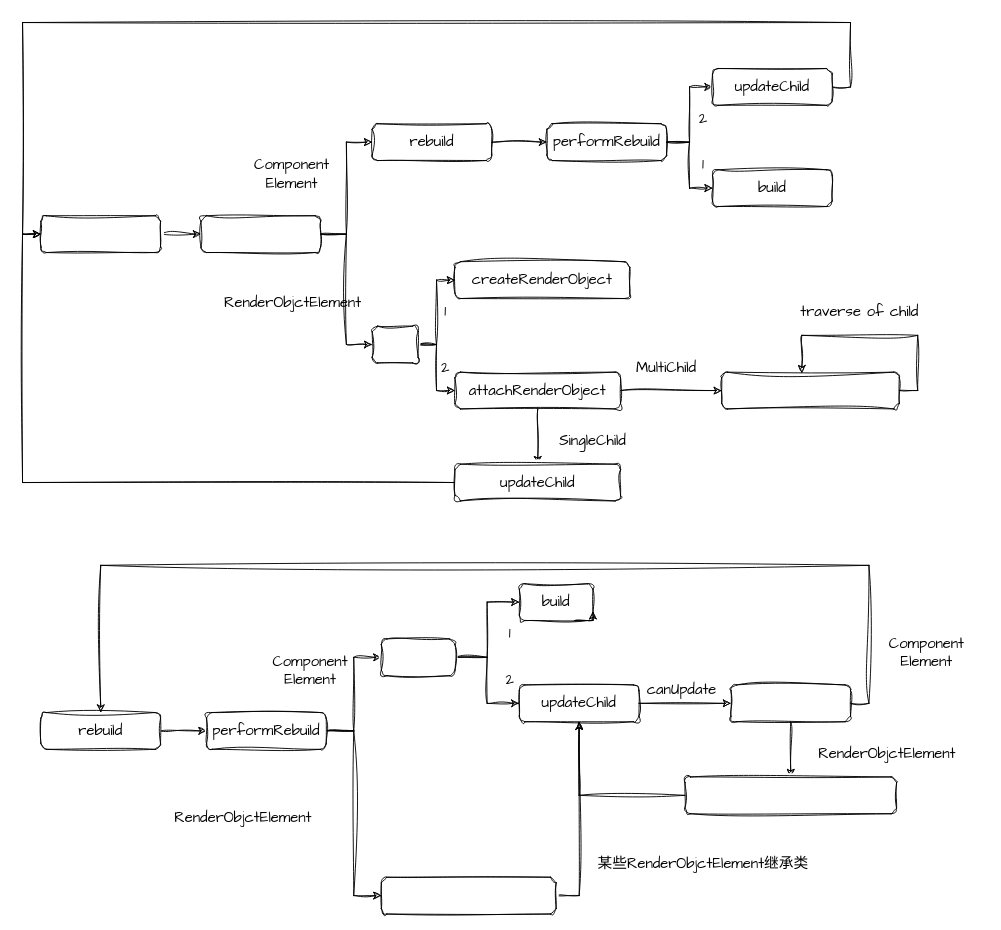
Image size: 1001x930. Some labels were removed from this diagram. Each missing label, with the centre of its shape:
"child.update" belongs at [790,703].
"inflateWidget" belongs at [100,234].
"inflateWidget(child)" belongs at [810,390].
"mount" belongs at [260,234].
"updateRenderObject" belongs at [468,895].
"updatreRenderObject" belongs at [790,795].
